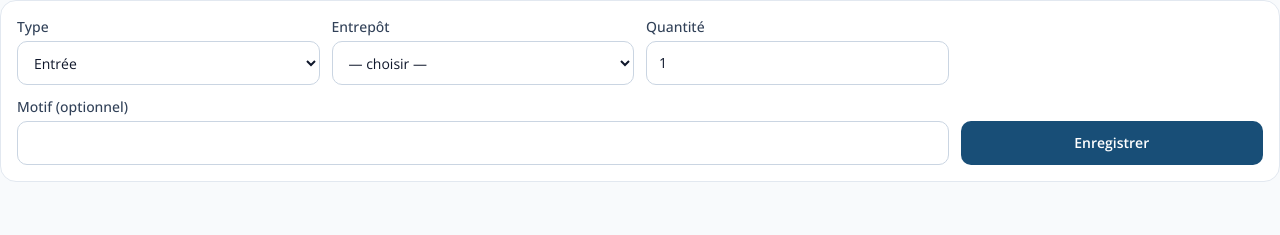
Test case: MovementForm › étant donné un transfert vers la source, quand enregistrer, alors refusé sans appel réseau
The image size is (1280, 235).
Step 1. Select "Transfert" in the dropdown labelled "Type" → (168, 63), box [17, 41, 320, 85]
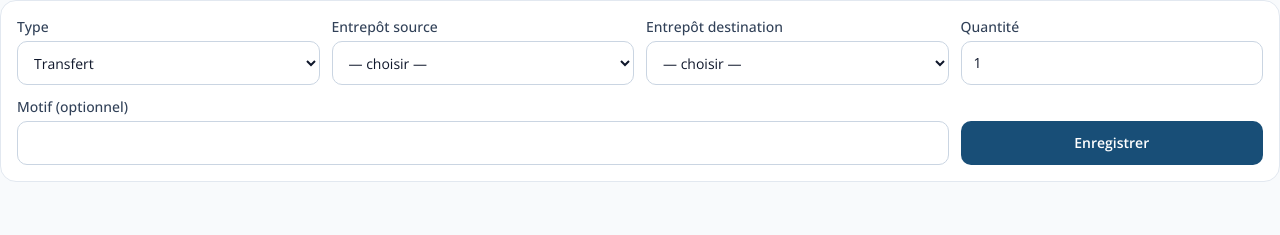
Check: the text "Entrepôt destination" is shown, box [646, 17, 783, 36]
Step 2. Select "Boutique" in the dropdown labelled "Entrepôt source" → (483, 63), box [332, 41, 634, 85]
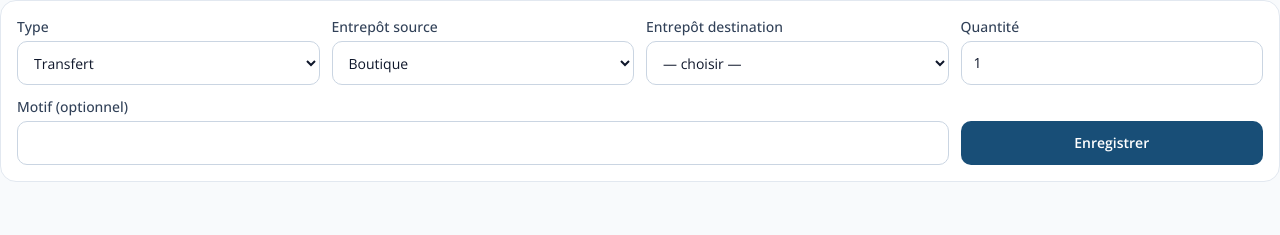
Step 3. Select "Boutique" in the dropdown labelled "Entrepôt destination" → (797, 63), box [646, 41, 948, 85]
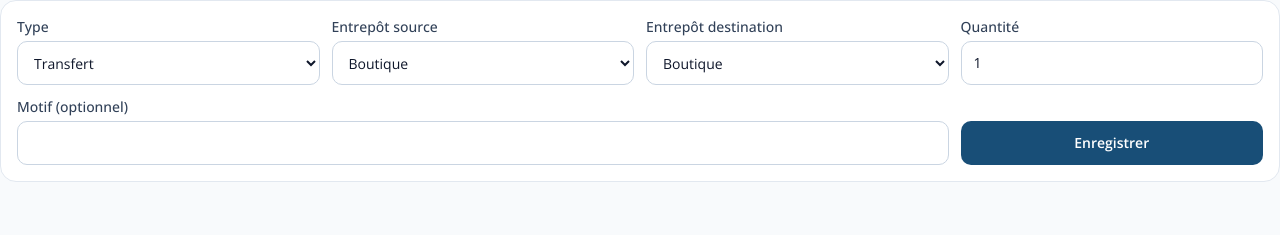
Step 4. Click the button "Enregistrer" → (1112, 143), box [960, 121, 1263, 165]
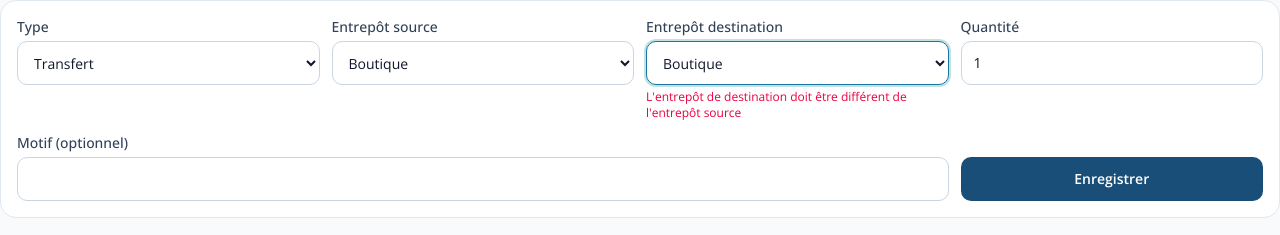
Check: the text "L'entrepôt de destination doit être différent de l'entrepôt source" is shown, box [646, 89, 948, 121]
